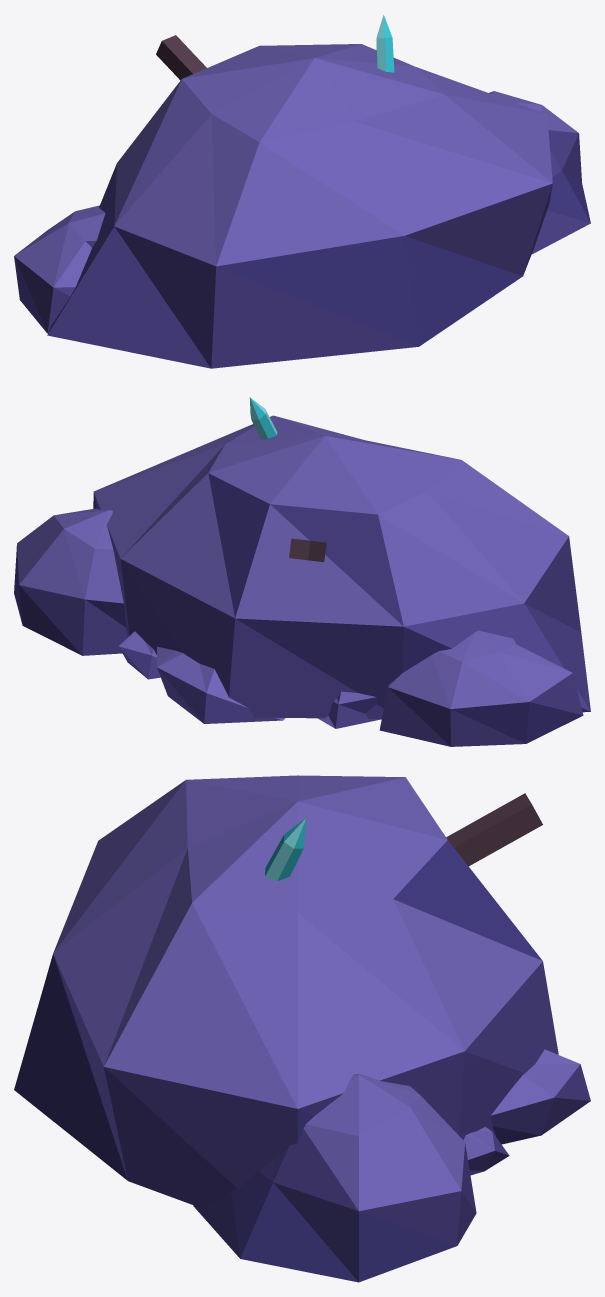
File: Mine_Rubble_Block.obj
3 renders of one model, top to bottom at view 1: azimuth 30°, elevation 25°; view 2: azimuth 150°, elevation 25°; view 3: azimuth 270°, elevation 25°, orthographic. The views are drawn at different scales.
Parts seen in each view (by area): view 1: Mine_Rubble_Block; view 2: Mine_Rubble_Block; view 3: Mine_Rubble_Block.
Part boxes in pixels (<box>): Mine_Rubble_Block: <box>14,15,590,368</box>; Mine_Rubble_Block: <box>14,397,590,746</box>; Mine_Rubble_Block: <box>14,775,590,1282</box>.
Size of the model in its own units: 7.15 by 2.95 by 4.72.
